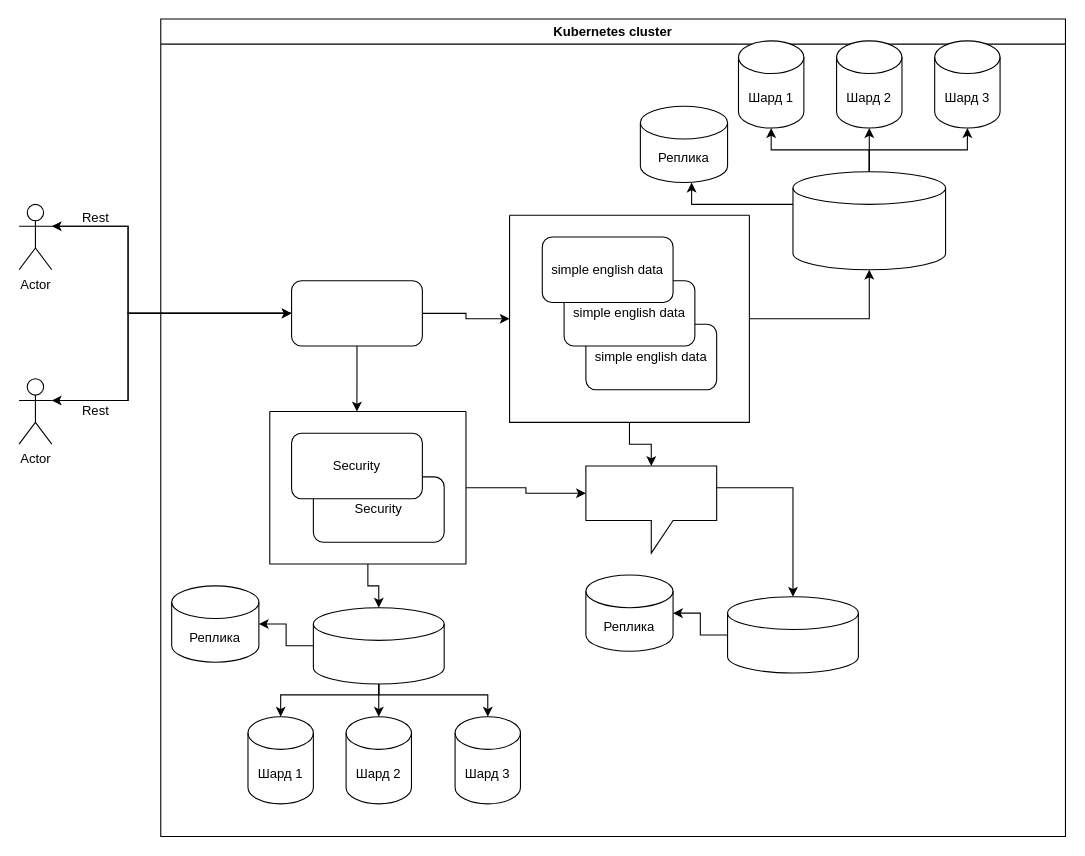
This 1085x856 diagram has some shape labels left out. Each missing label, with the box of its shape:
Message Queue: (585, 465, 717, 553)
Балансировщик: (290, 280, 422, 346)
БД c историей запросов: (726, 596, 858, 673)
БД с информацией о словах, словарях, списков интервального повторения...: (792, 171, 946, 270)
БД с пользователями: (312, 607, 444, 684)
